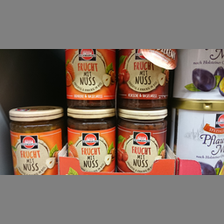jam: (9, 105, 65, 175), (62, 106, 117, 172), (115, 107, 169, 172), (117, 49, 172, 110), (64, 49, 117, 109)
